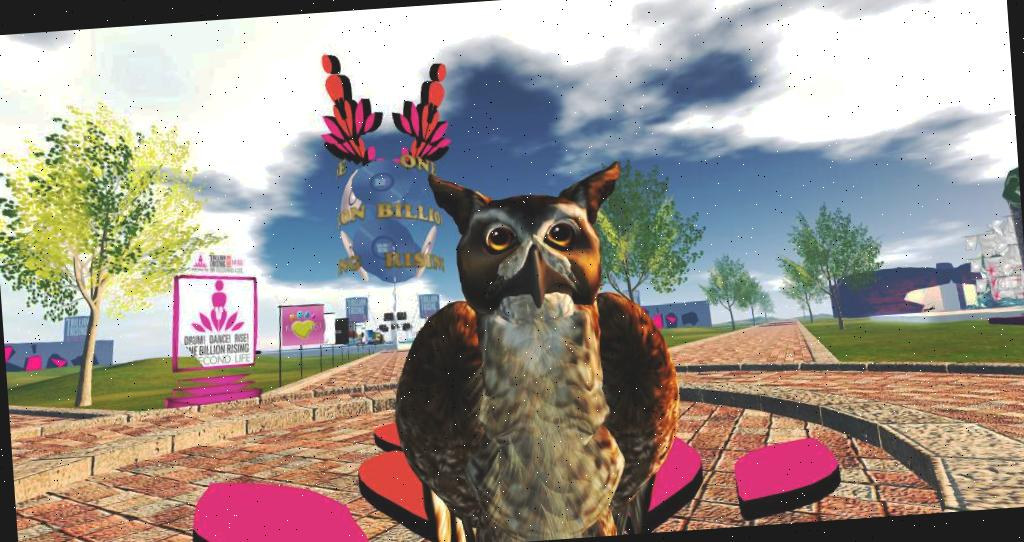Owl: (378, 160, 681, 542)
